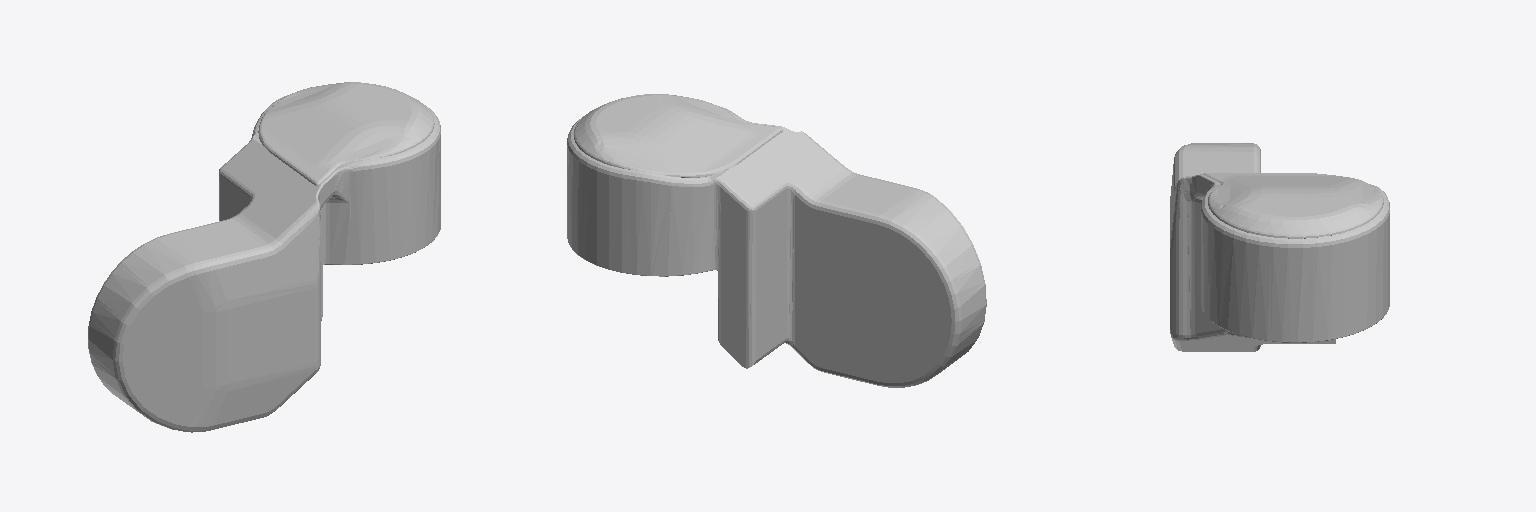
The model's file is arm_1.obj.
3 renders of one model, left to right at view 1: azimuth 30°, elevation 25°; view 2: azimuth 150°, elevation 25°; view 3: azimuth 270°, elevation 25°, orthographic.
Visible parts, largest first — view 1: arm_1; view 2: arm_1; view 3: arm_1.
Part boxes in pixels (x1,y1,x2,y2): arm_1: (88, 82, 440, 432); arm_1: (567, 94, 986, 387); arm_1: (1170, 143, 1389, 351).
Size of the model in its own units: 0.2285 by 0.139 by 0.1209.